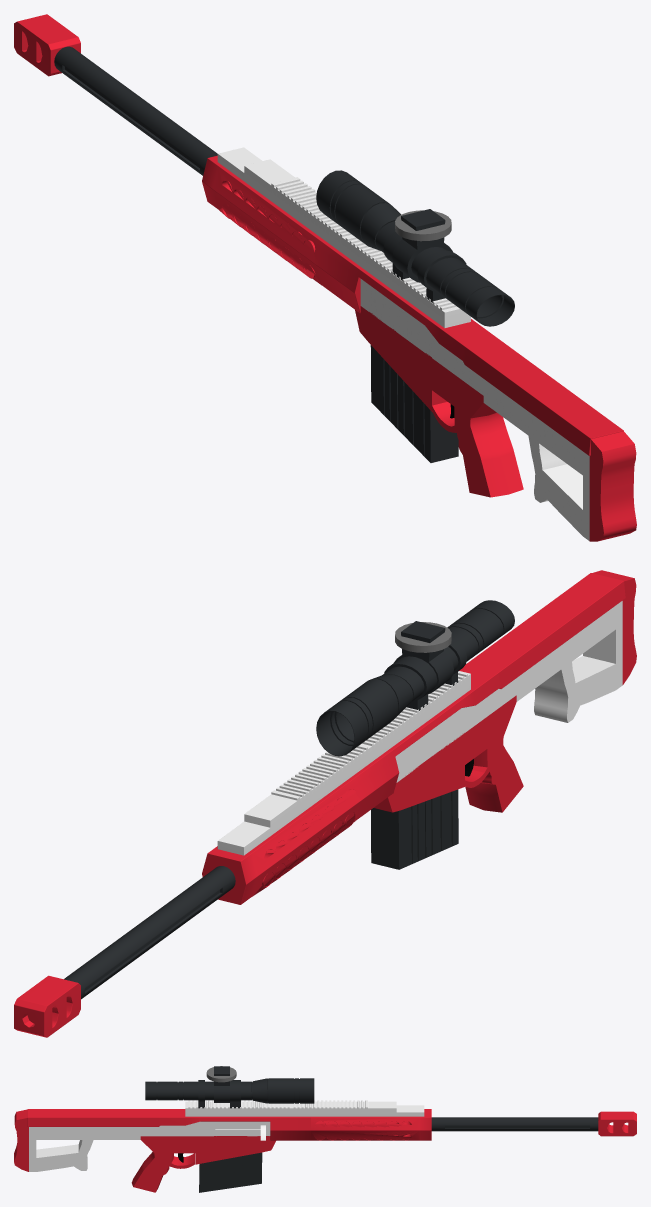
Rendered from Sniper.fbx.
3 views of the same model, one above another, from view 1: azimuth 30°, elevation 25°; view 2: azimuth 150°, elevation 25°; view 3: azimuth 270°, elevation 25° (orthographic). The views are drawn at different scales.
Visible parts, largest first — view 1: polySurface6, polySurface7, polySurface8, polySurface9, polySurface5, polySurface2, polySurface1, polySurface3, polySurface4; view 2: polySurface6, polySurface7, polySurface8, polySurface9, polySurface5, polySurface2, polySurface3, polySurface1, polySurface4; view 3: polySurface6, polySurface7, polySurface8, polySurface9, polySurface5, polySurface2, polySurface3, polySurface1, polySurface4.
Part boxes in pixels (<box>): polySurface6: <box>202,155,623,455</box>; polySurface7: <box>360,279,589,540</box>; polySurface8: <box>316,170,514,326</box>; polySurface9: <box>355,306,458,462</box>; polySurface5: <box>217,147,470,327</box>; polySurface2: <box>54,46,217,175</box>; polySurface1: <box>589,431,636,541</box>; polySurface3: <box>14,14,80,76</box>; polySurface4: <box>395,210,451,241</box>; polySurface6: <box>202,573,625,904</box>; polySurface7: <box>395,601,622,812</box>; polySurface8: <box>316,600,514,756</box>; polySurface9: <box>371,733,464,869</box>; polySurface5: <box>217,671,470,855</box>; polySurface2: <box>64,866,235,999</box>; polySurface3: <box>14,975,80,1037</box>; polySurface1: <box>592,570,636,684</box>; polySurface4: <box>395,622,451,652</box>; polySurface6: <box>27,1109,431,1140</box>; polySurface7: <box>29,1121,270,1192</box>; polySurface8: <box>145,1066,314,1108</box>; polySurface9: <box>195,1136,275,1192</box>; polySurface5: <box>185,1100,424,1116</box>; polySurface2: <box>431,1117,598,1131</box>; polySurface3: <box>598,1111,636,1136</box>; polySurface1: <box>14,1109,28,1171</box>; polySurface4: <box>206,1066,236,1082</box>.
Size of the model in its own units: 139 by 438 by 2076.
